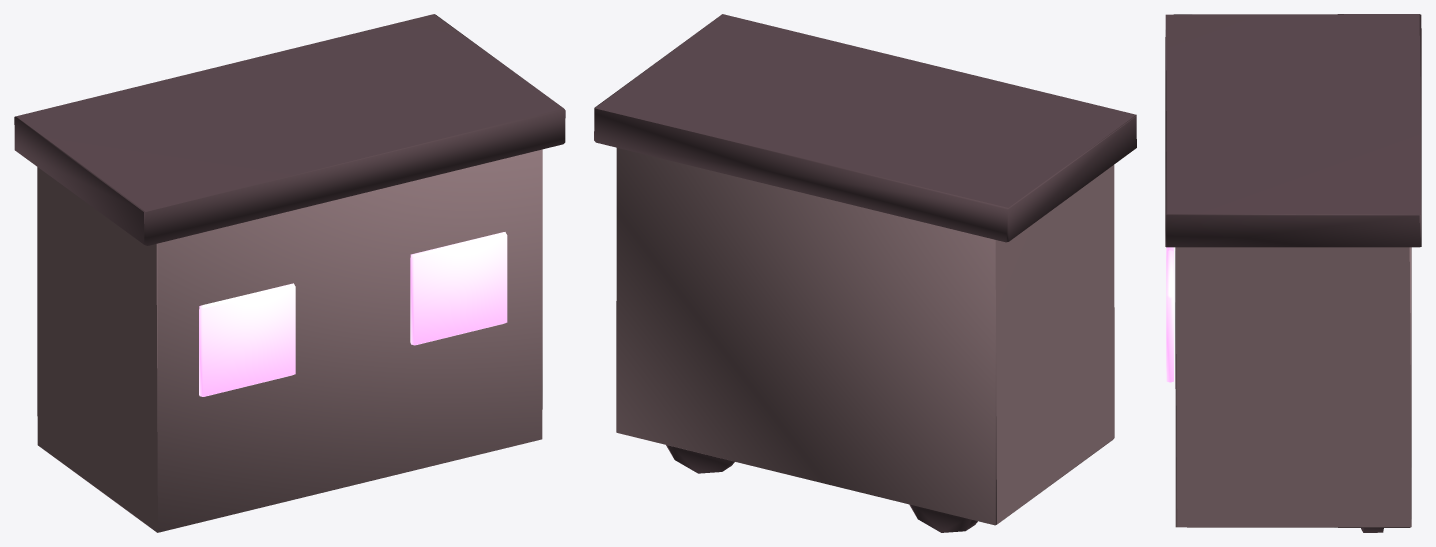
The model's file is SM_Neroberg_Funicular_LOD2.fbx.
3 renders of one model, left to right at view 1: azimuth 30°, elevation 25°; view 2: azimuth 150°, elevation 25°; view 3: azimuth 270°, elevation 25°, orthographic. The views are drawn at different scales.
Parts seen in each view (by area): view 1: SM_Neroberg_Funicular_LOD2; view 2: SM_Neroberg_Funicular_LOD2; view 3: SM_Neroberg_Funicular_LOD2.
Part boxes in pixels (x1=…): SM_Neroberg_Funicular_LOD2: x1=14, y1=14, x2=565, y2=532; SM_Neroberg_Funicular_LOD2: x1=594, y1=14, x2=1136, y2=532; SM_Neroberg_Funicular_LOD2: x1=1165, y1=14, x2=1421, y2=532.
Bounding box in the file's own units: 2.39 × 1.98 × 1.29.
